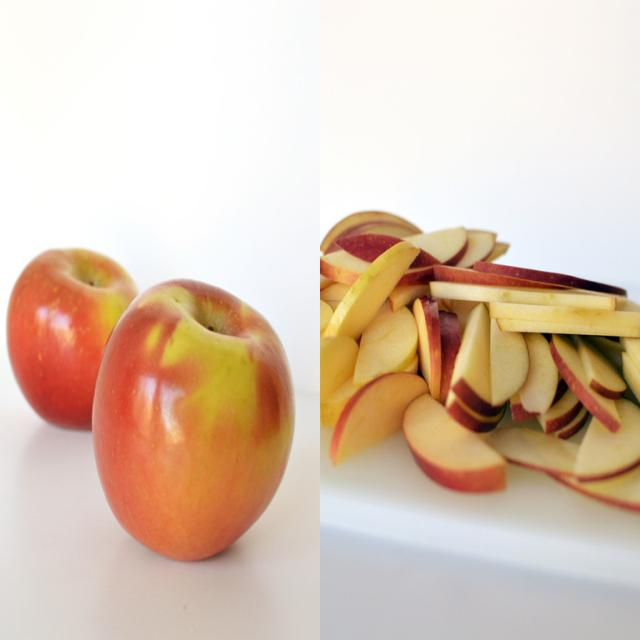Healty Apple: (318, 204, 640, 512), (90, 277, 296, 564), (7, 246, 138, 434)
